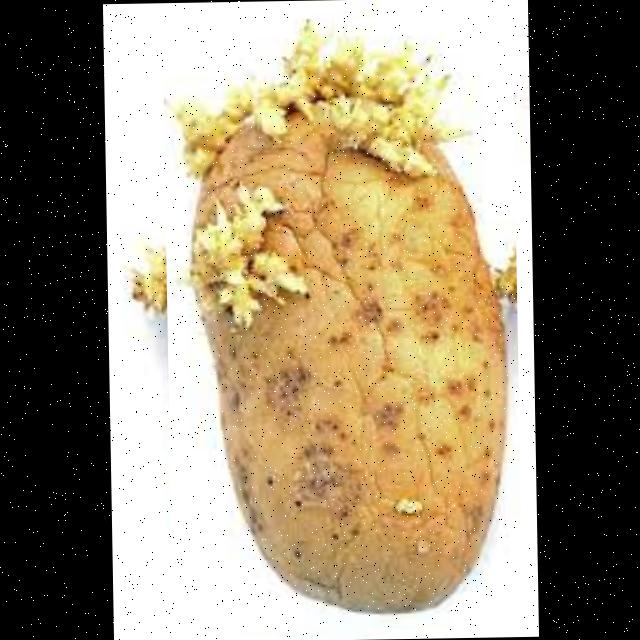Sprouted potato: (160, 15, 522, 632)
